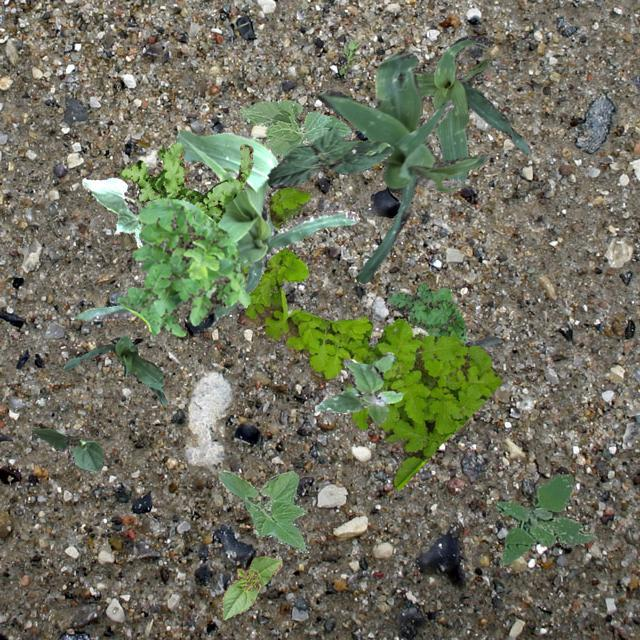crop: (74, 128, 358, 320), (316, 50, 488, 282), (414, 34, 530, 186), (266, 126, 392, 188), (218, 468, 308, 552), (62, 334, 166, 406), (238, 98, 350, 160), (82, 176, 146, 248), (220, 556, 282, 618), (31, 426, 102, 471), (468, 336, 502, 346)
weed: (242, 184, 500, 488), (118, 196, 250, 338), (118, 142, 252, 222), (494, 472, 594, 566), (316, 351, 402, 424), (384, 282, 468, 346), (338, 38, 361, 74)
